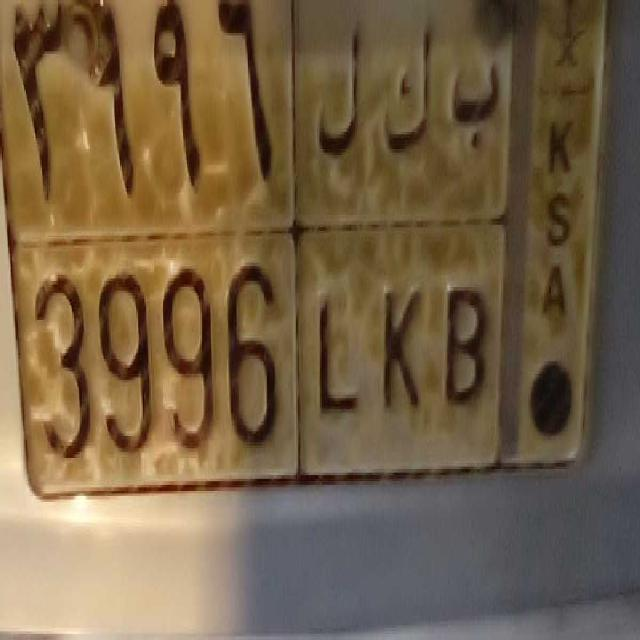license_plate: (7, 220, 502, 484)
